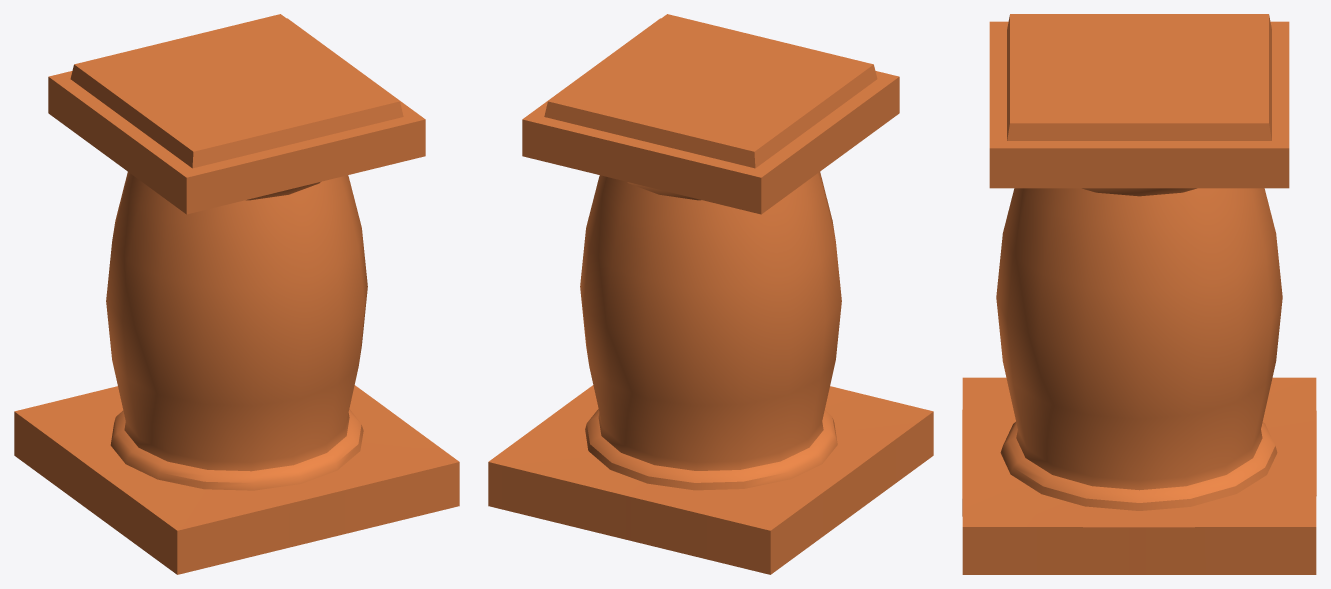
The model's file is thiccPillar.fbx.
The picture shows the model from 3 angles, left to right: view 1: azimuth 30°, elevation 25°; view 2: azimuth 150°, elevation 25°; view 3: azimuth 270°, elevation 25°; orthographic projection. The views are drawn at different scales.
Parts seen in each view (by area): view 1: ThiccPillar; view 2: ThiccPillar; view 3: ThiccPillar.
Part boxes in pixels (box(x1,y1,x2,y2)): ThiccPillar: box(14, 14, 459, 574); ThiccPillar: box(488, 14, 933, 574); ThiccPillar: box(962, 14, 1316, 574).
Size of the model in its own units: 402 by 541 by 402.
